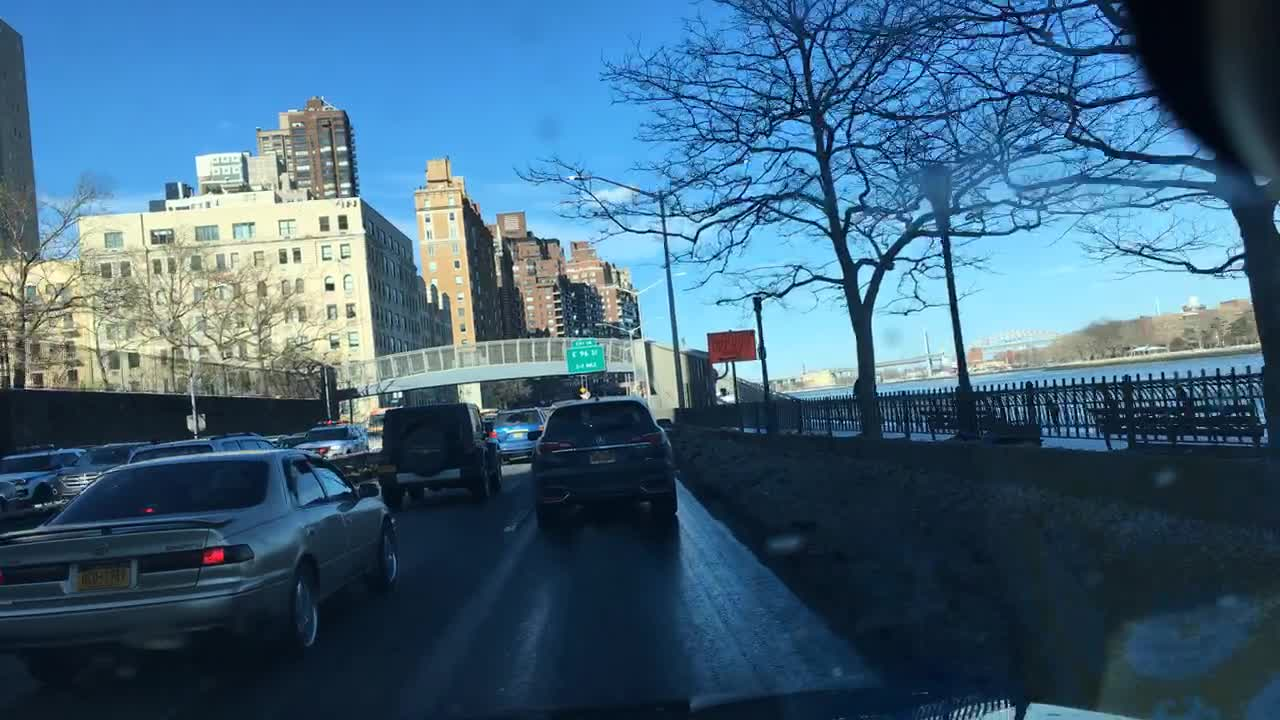car: (0, 446, 400, 691), (530, 397, 680, 524), (371, 401, 505, 508), (52, 439, 153, 511), (0, 449, 83, 528), (127, 432, 274, 465), (321, 452, 384, 505), (291, 417, 372, 456), (490, 405, 544, 462), (264, 429, 309, 447)
traffic sign: (565, 336, 606, 375), (183, 413, 207, 430), (576, 386, 588, 398)
